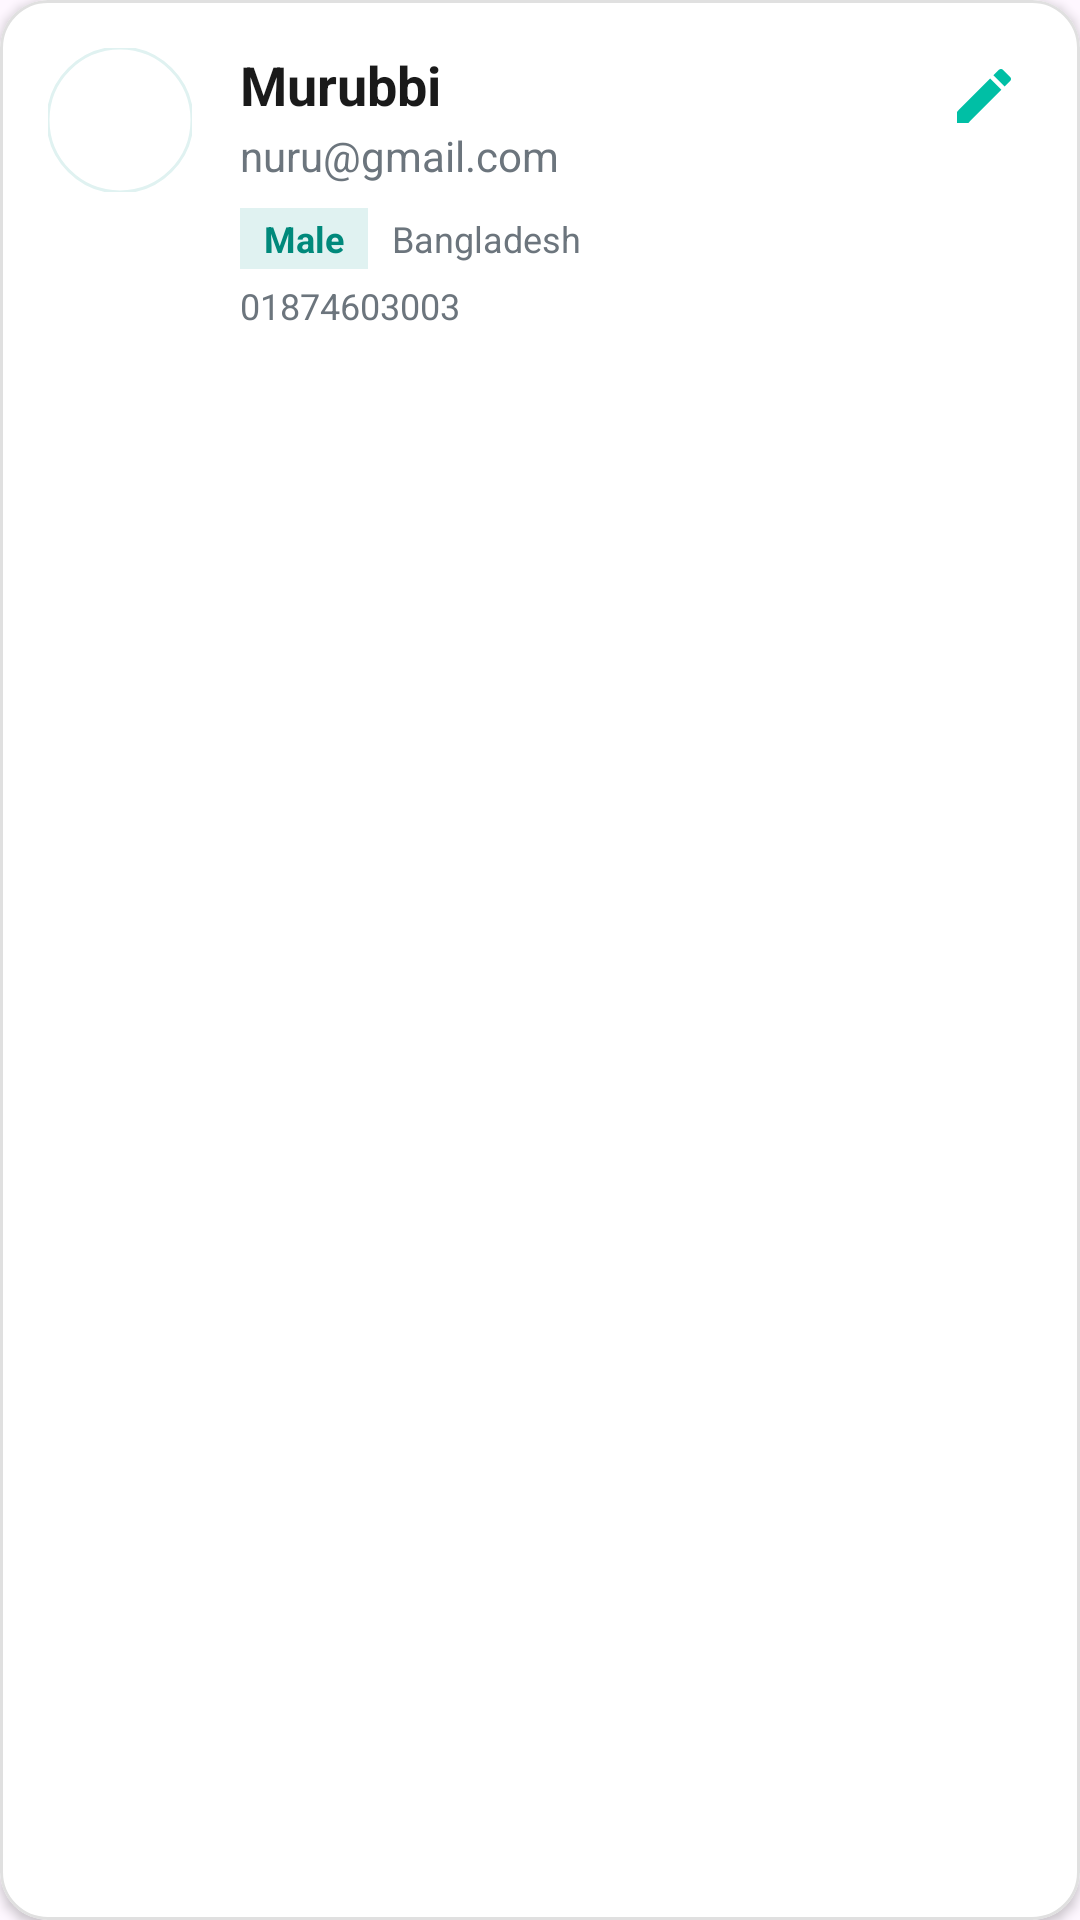

Icons on this 1080px×1920px Android screen, each with the point to tap as [x,y]:
Edit: [984,96]
